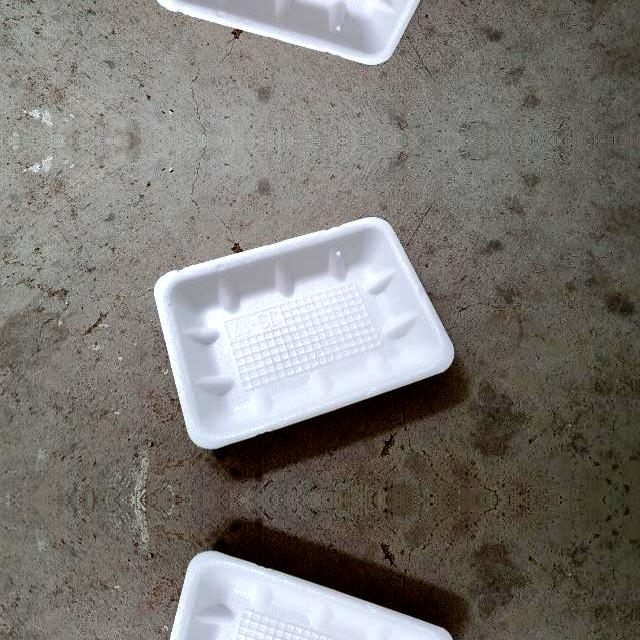Styrofoam: (153, 212, 459, 450), (154, 216, 454, 449), (153, 547, 459, 640), (169, 549, 453, 640), (153, 0, 459, 68), (157, 0, 420, 64)
